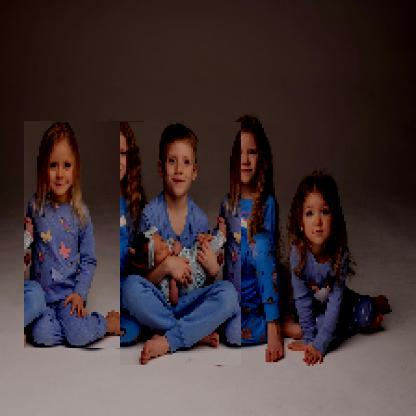child: (121, 123, 243, 367), (25, 122, 146, 350), (287, 173, 393, 366), (218, 115, 286, 364)
